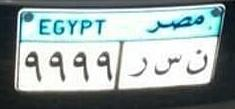9: (22, 49, 43, 87), (46, 50, 68, 86), (71, 48, 90, 88), (95, 49, 115, 84)
noon: (185, 47, 209, 78)
raa: (126, 52, 149, 82)
seen: (152, 49, 183, 83)
